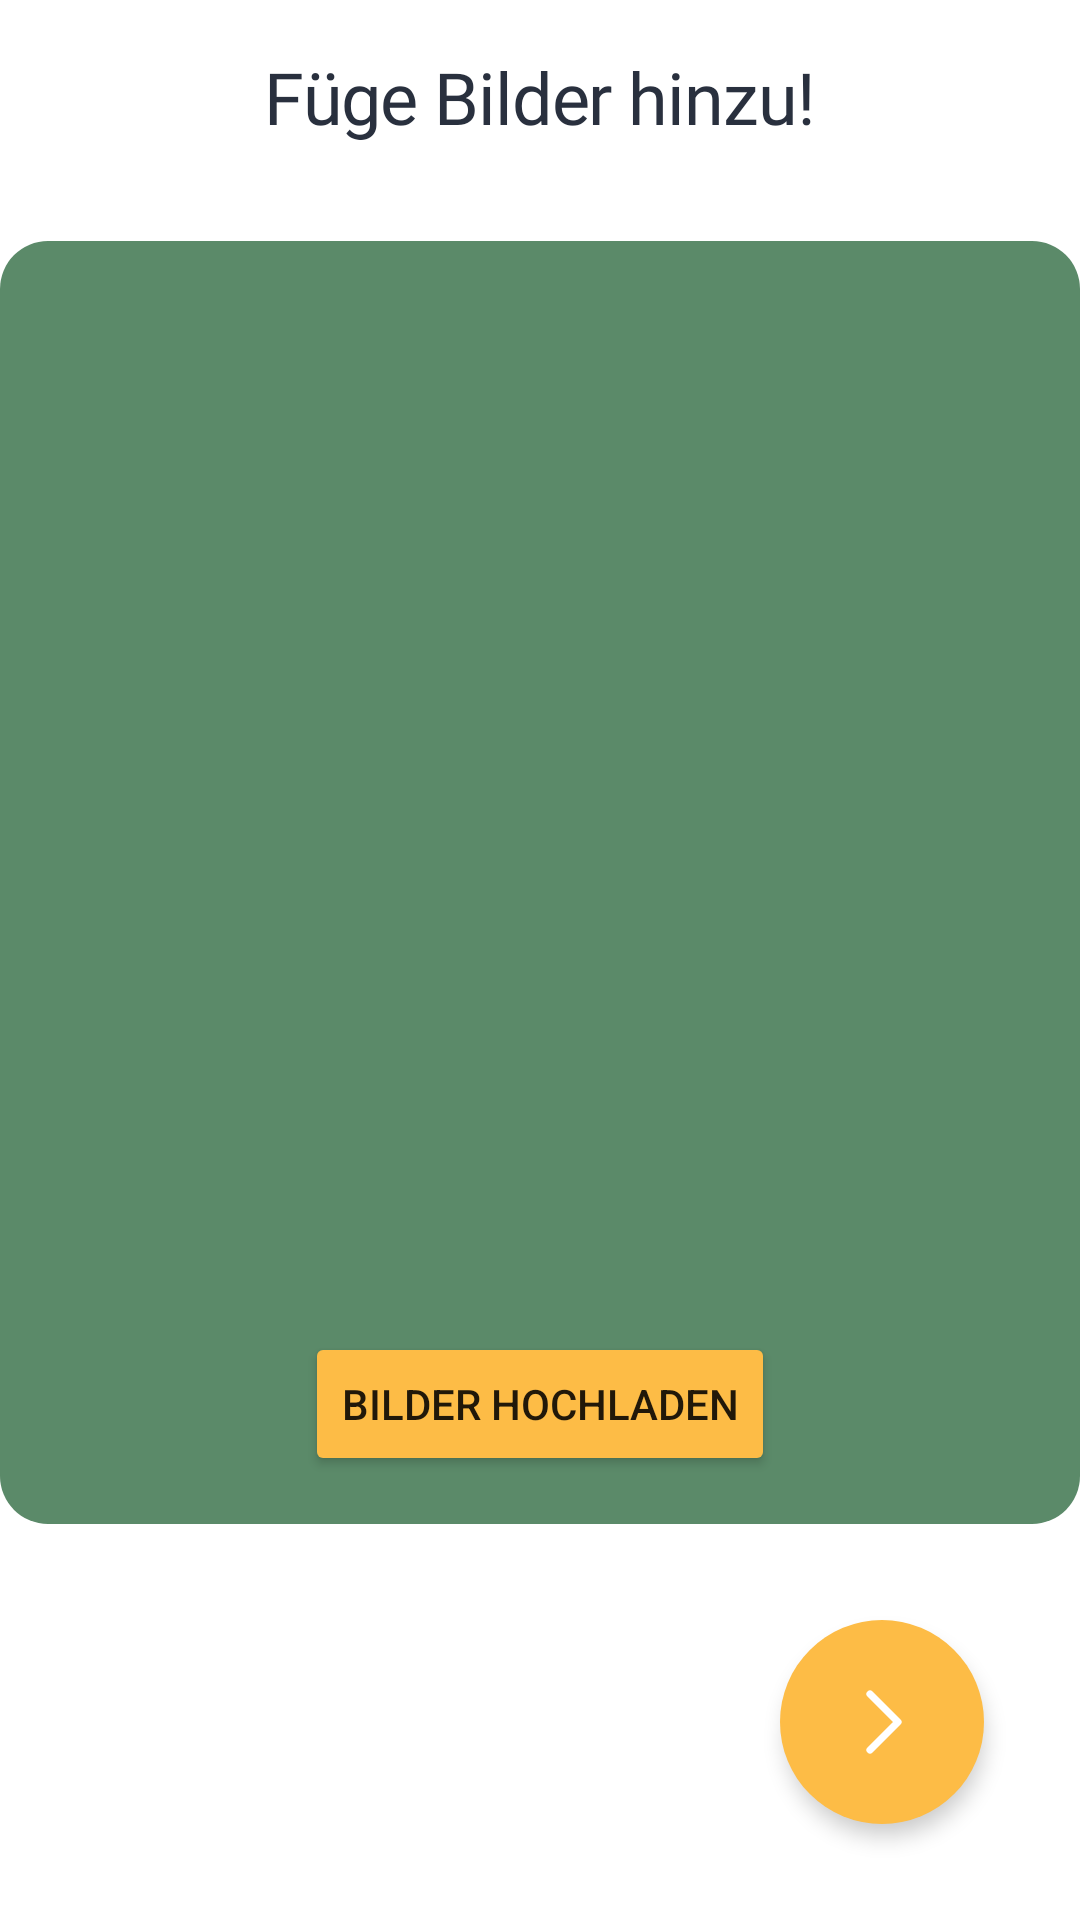

Screen size 1080x1920. Icon name, then its box in pixels as (x1, y1, x2, y2):
right: (780, 1620, 984, 1824)
